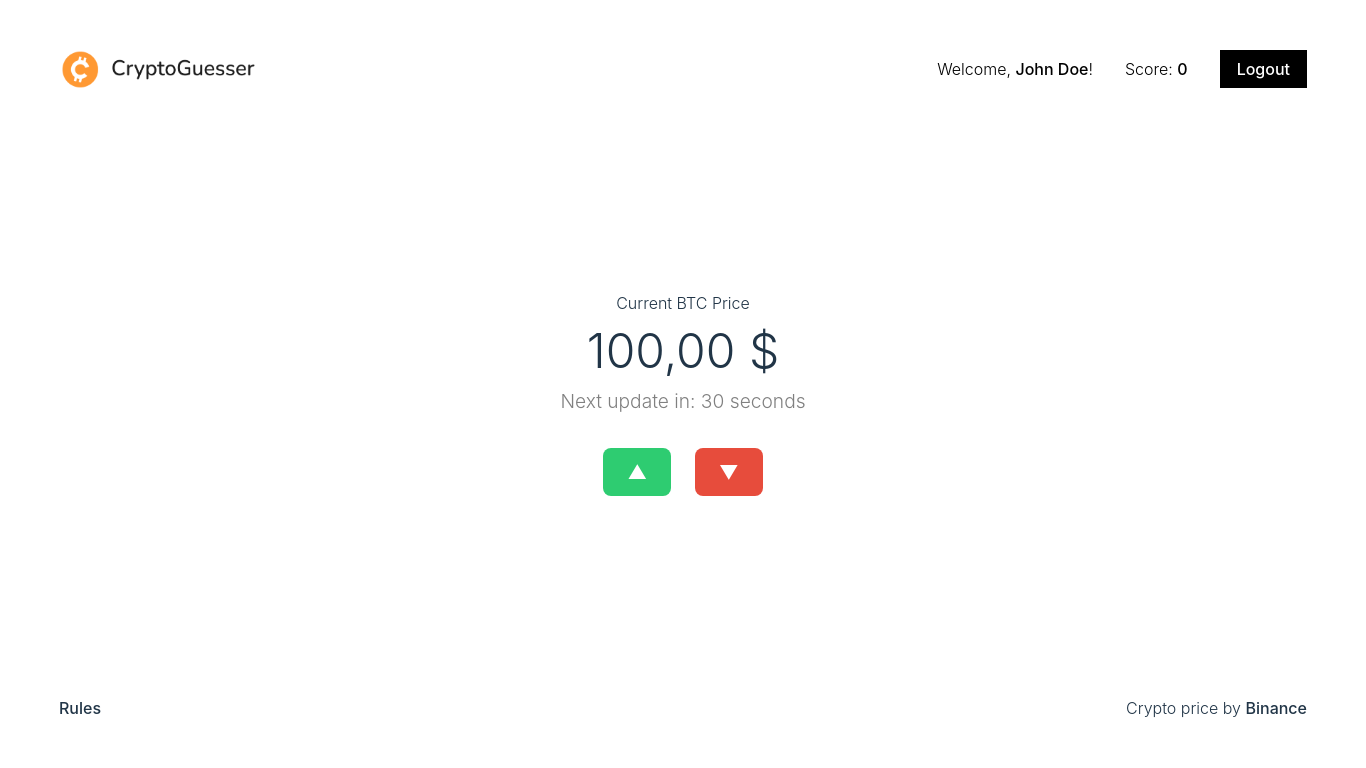
it: Game › handles making a guess
The width and height of the screenshot is (1366, 768).
Click the button with test id "guess-up" at (637, 472), box [603, 448, 671, 496]
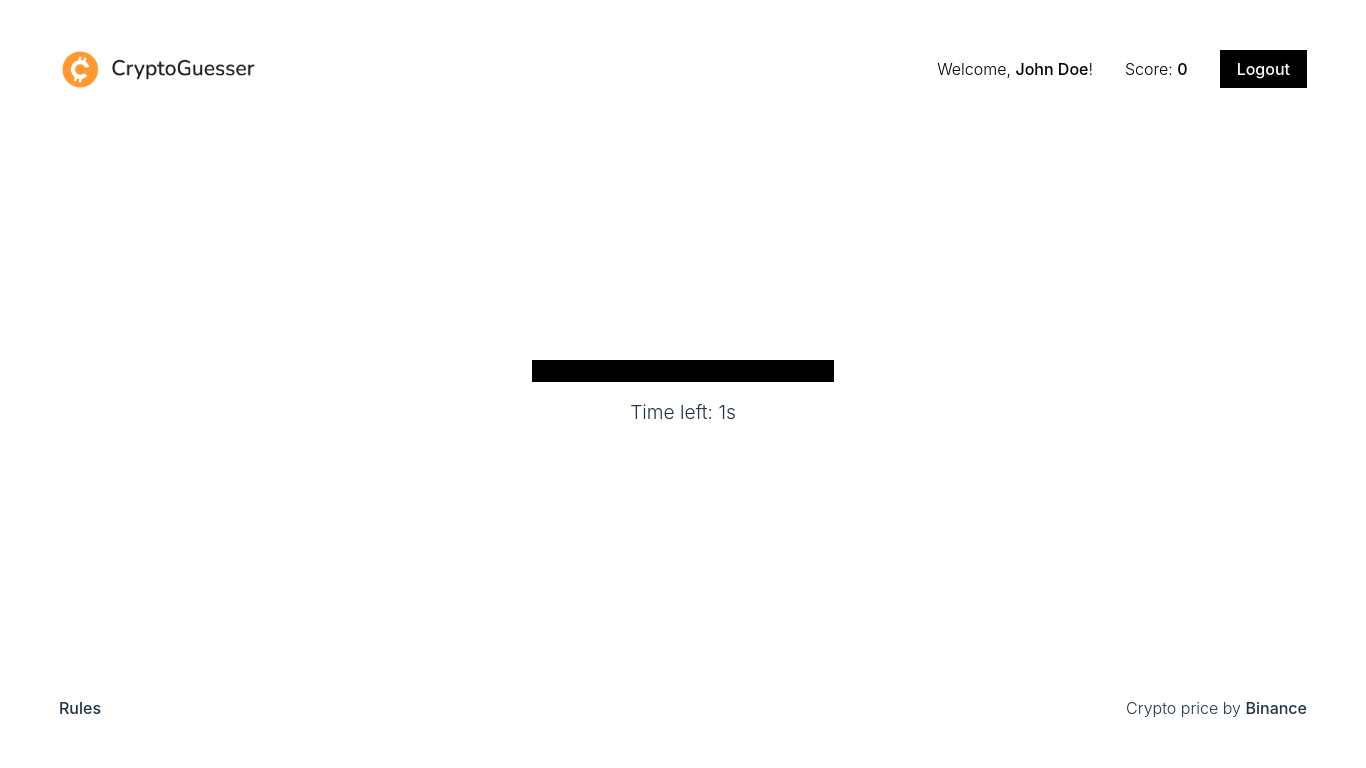
Expected: the element with test id "timer" showing "Time left: 1s" is shown, [532, 360, 834, 424]
